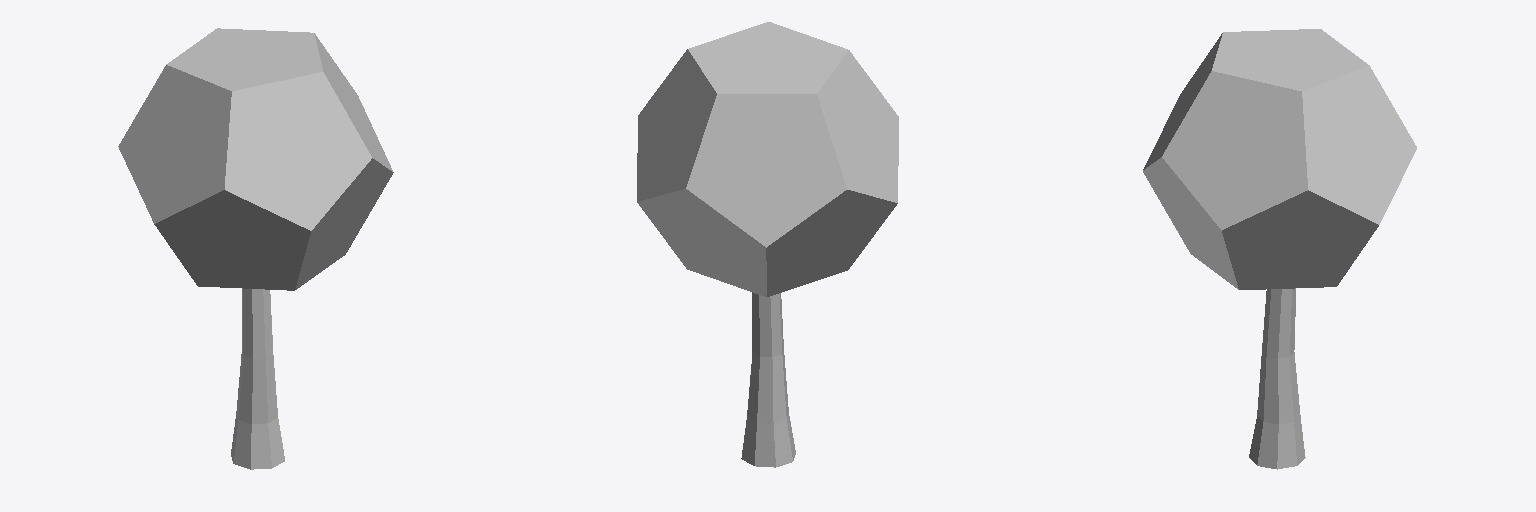
File: arbol_2.obj
3 renders of one model, left to right at view 1: azimuth 30°, elevation 25°; view 2: azimuth 150°, elevation 25°; view 3: azimuth 270°, elevation 25°, orthographic.
Visible parts, largest first — view 1: arbol_2; view 2: arbol_2; view 3: arbol_2.
Boxes of the visible parts, box(x1,y1,x2,y2) form: arbol_2: box(118, 28, 393, 469); arbol_2: box(637, 22, 898, 467); arbol_2: box(1143, 29, 1416, 469).
Bounding box in the file's own units: 3.78 × 6.28 × 3.89.